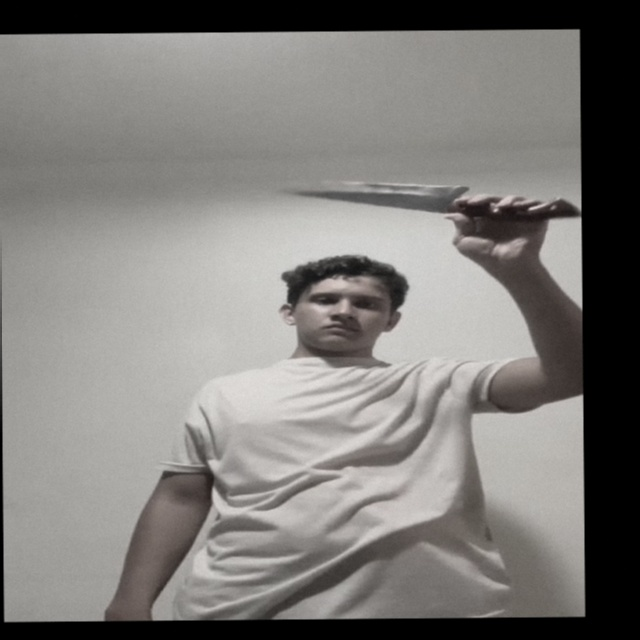Sharp-Object: (272, 179, 462, 212)
